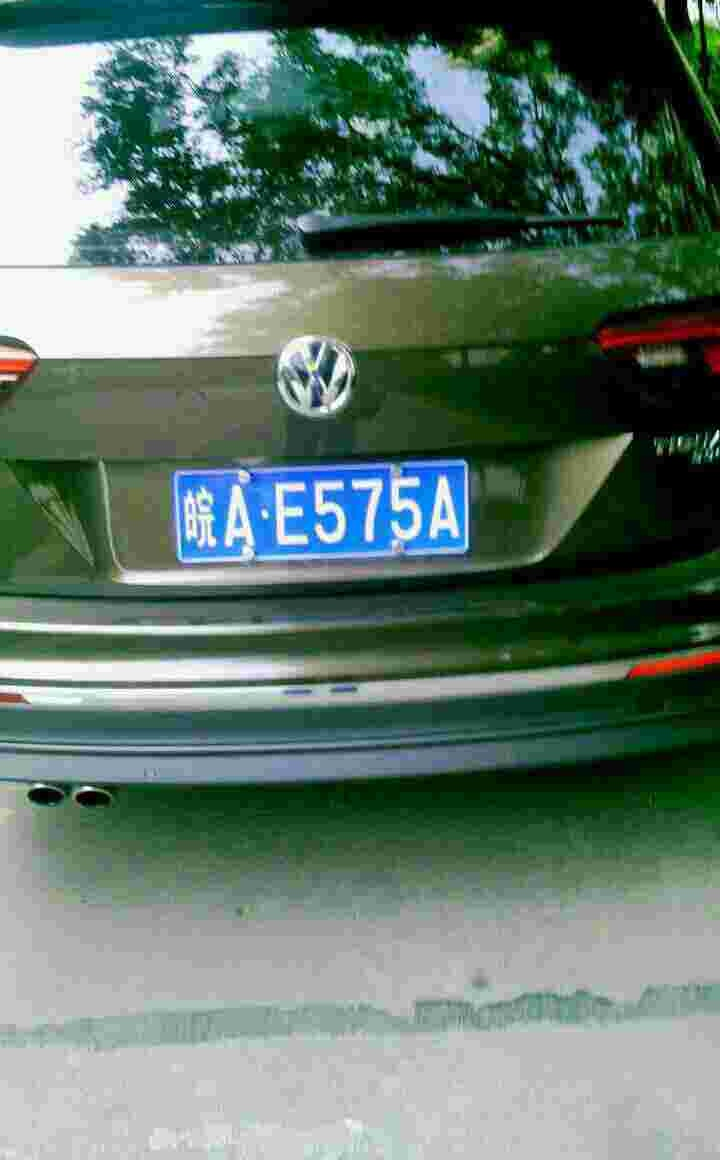car: (168, 469, 475, 559)
